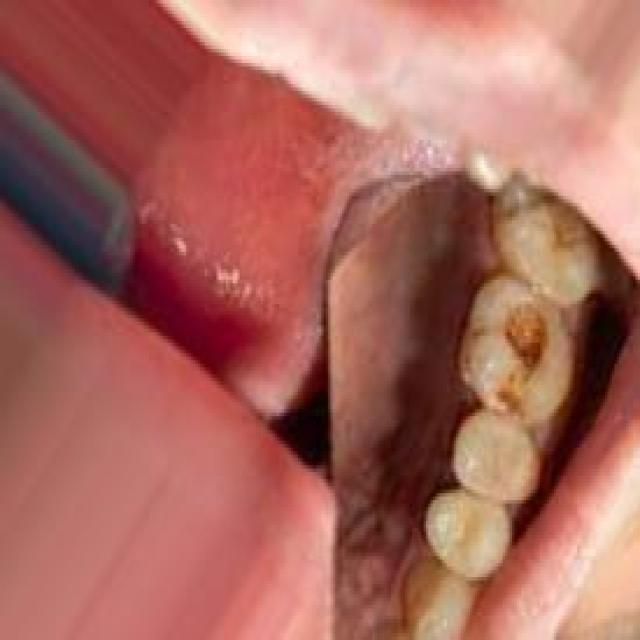caries: (492, 282, 550, 371), (488, 369, 536, 429)
